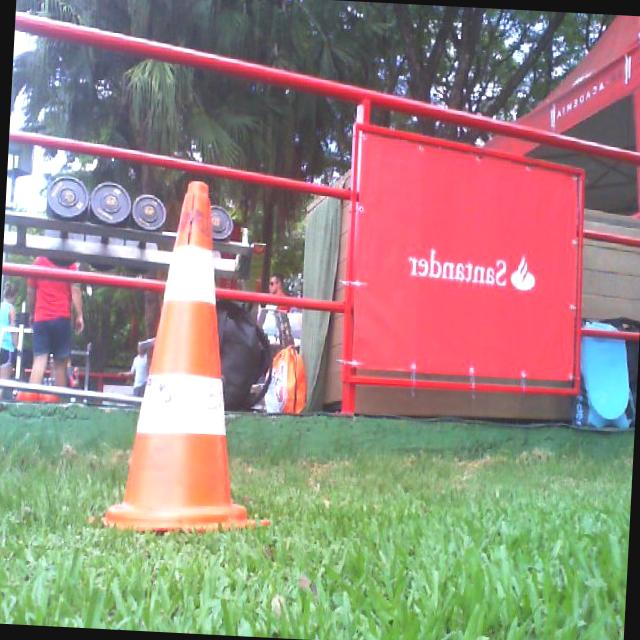Cone: (101, 178, 285, 540)
